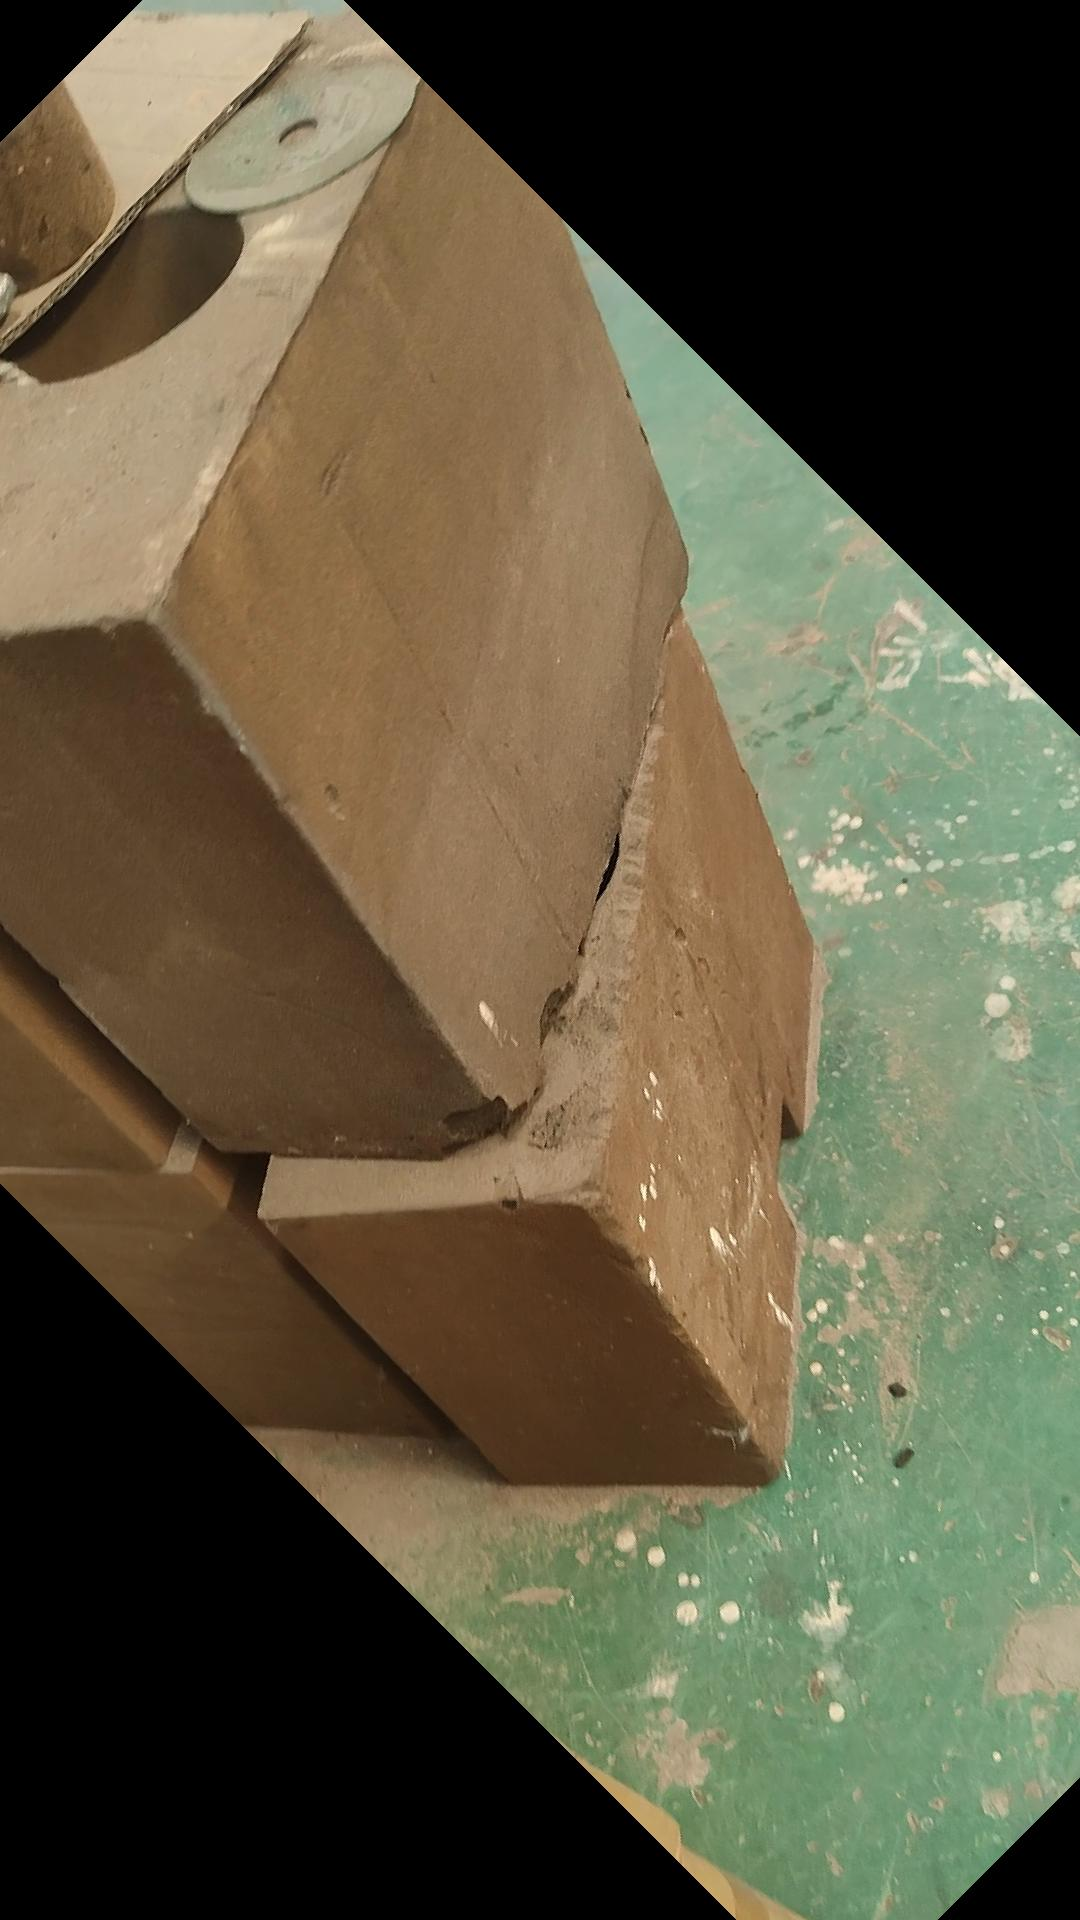pouring hole: (1, 200, 240, 386)
